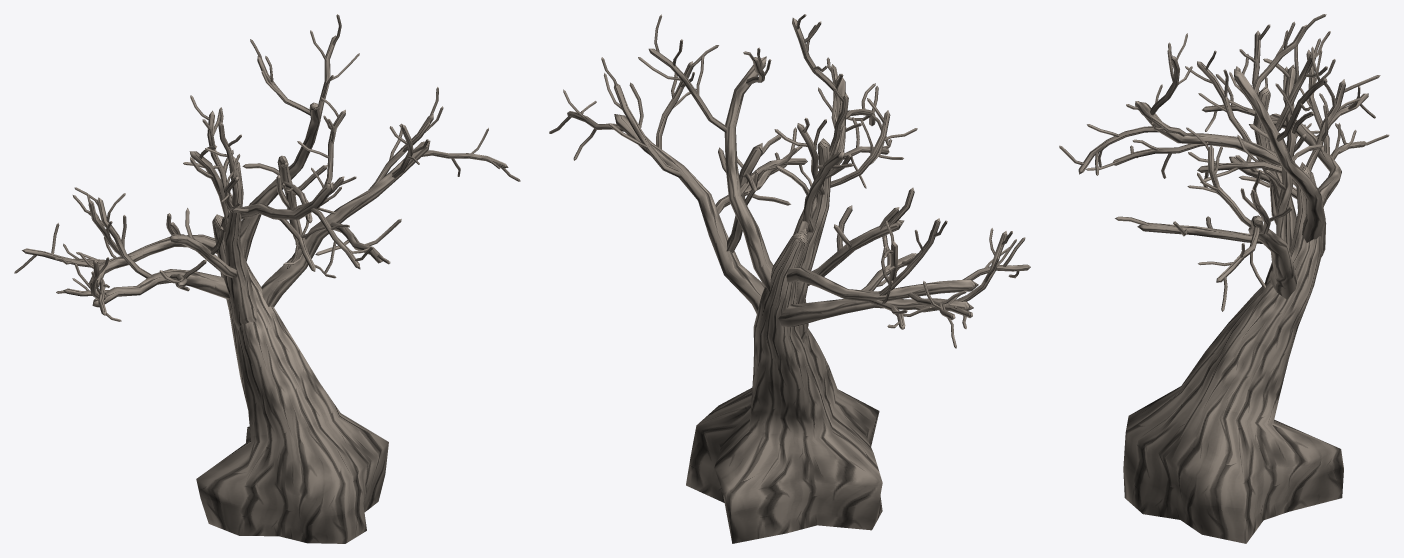
File: deadtree_v2.glb
The picture shows the model from 3 angles, left to right: view 1: azimuth 30°, elevation 25°; view 2: azimuth 150°, elevation 25°; view 3: azimuth 270°, elevation 25°; orthographic projection. The views are drawn at different scales.
Parts seen in each view (by area): view 1: deadtree_v2_trunk_LOD0; view 2: deadtree_v2_trunk_LOD0; view 3: deadtree_v2_trunk_LOD0.
Part boxes in pixels (bbox=[...]): deadtree_v2_trunk_LOD0: bbox=[14, 14, 520, 543]; deadtree_v2_trunk_LOD0: bbox=[549, 14, 1030, 543]; deadtree_v2_trunk_LOD0: bbox=[1059, 14, 1389, 543].
Size of what is drawn, in the model's own units: 8.29 by 8.14 by 4.94.
Materials: 1 (1 with a texture image).
